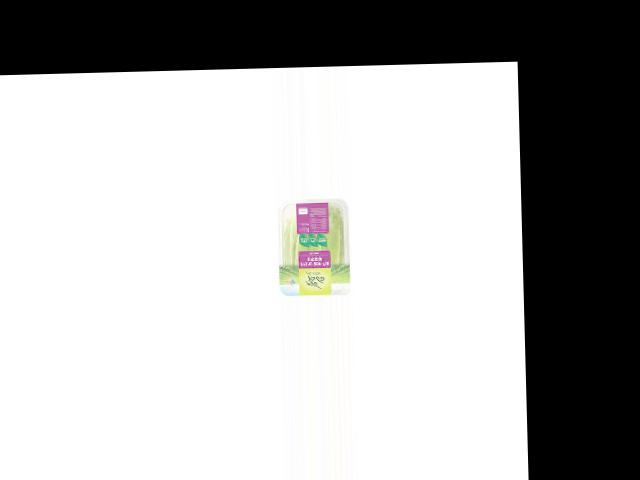lettuce: (275, 197, 350, 289)
